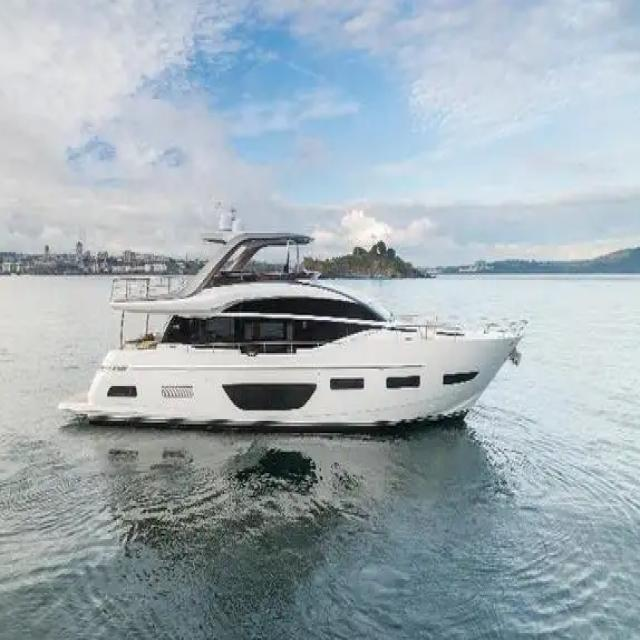houseboat: (51, 227, 527, 428)
